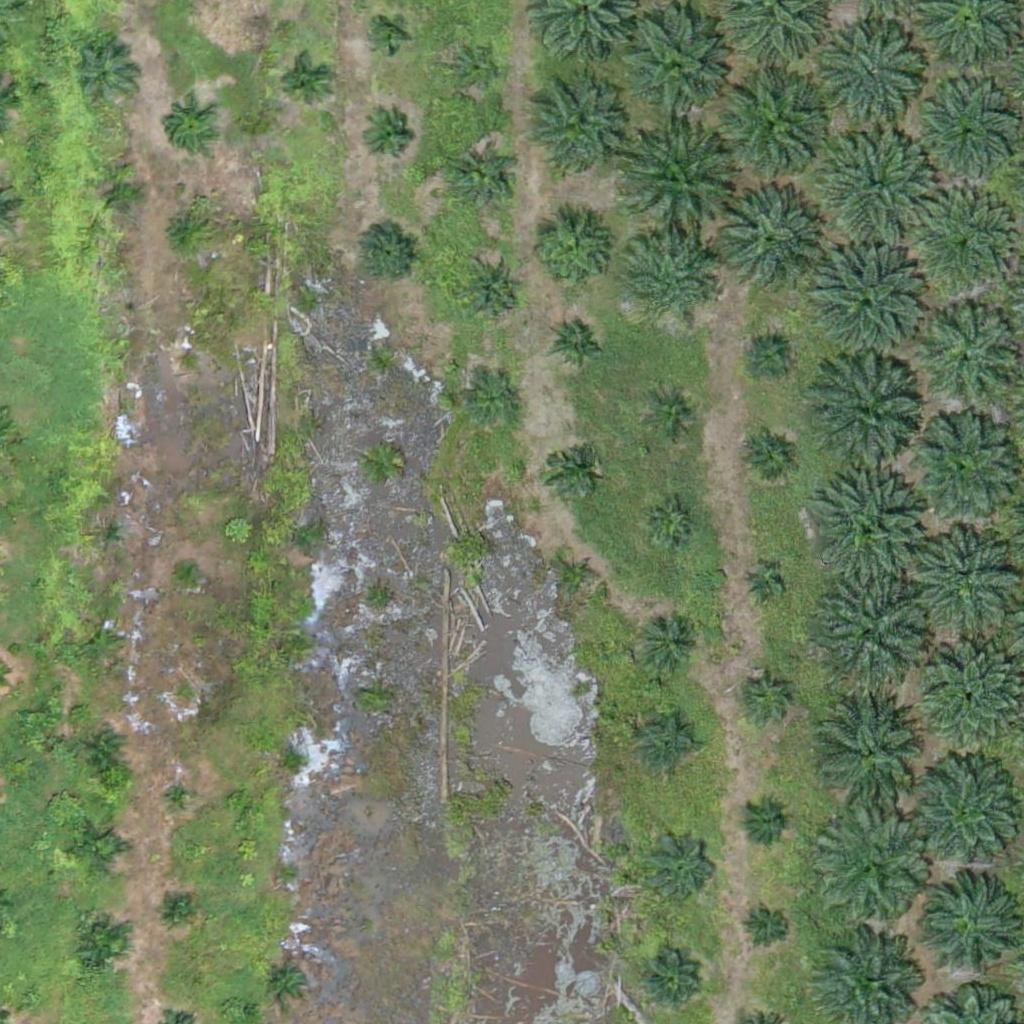Kelapa_Sawit: (824, 128, 937, 242), (817, 814, 930, 928), (710, 184, 823, 297), (814, 473, 927, 586), (815, 575, 928, 688), (815, 690, 928, 803), (902, 184, 1015, 297), (907, 759, 1020, 872), (716, 72, 828, 186), (624, 128, 736, 242), (620, 12, 732, 126), (812, 250, 924, 363), (812, 362, 924, 475), (909, 411, 1021, 524), (915, 89, 1015, 190), (827, 29, 927, 130), (921, 528, 1021, 629), (524, 85, 624, 185), (526, 208, 613, 296), (626, 235, 713, 323), (644, 827, 719, 902), (461, 260, 524, 323), (75, 43, 138, 106), (356, 219, 419, 282), (640, 954, 703, 1017), (455, 150, 517, 213), (69, 916, 131, 979), (640, 614, 702, 677), (639, 711, 701, 774), (549, 312, 611, 375), (68, 817, 130, 880), (278, 56, 328, 107), (362, 110, 412, 161), (742, 671, 792, 722), (96, 169, 146, 220), (158, 204, 208, 255), (738, 795, 788, 846), (468, 379, 518, 429), (544, 443, 594, 493), (163, 102, 213, 152), (646, 499, 696, 549), (647, 390, 697, 440), (449, 41, 499, 91), (742, 903, 792, 953), (744, 331, 794, 381), (745, 434, 795, 484), (264, 957, 314, 1007), (369, 16, 407, 54), (561, 557, 599, 595), (744, 566, 782, 604), (162, 779, 200, 817), (86, 731, 124, 769), (82, 622, 120, 660), (91, 516, 128, 554), (164, 895, 189, 921), (176, 556, 201, 581), (173, 347, 198, 372)
